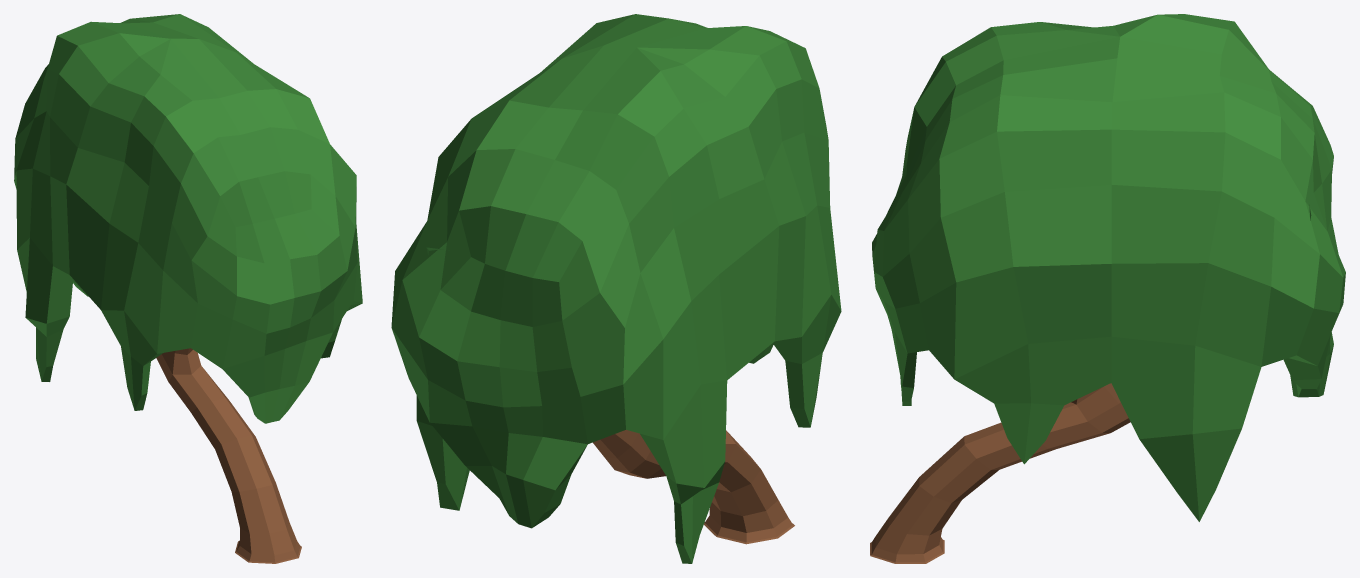
File: willow.glb
3 views of the same model, side by side, from view 1: azimuth 30°, elevation 25°; view 2: azimuth 150°, elevation 25°; view 3: azimuth 270°, elevation 25° (orthographic). The views are drawn at different scales.
Visible parts, largest first — view 1: Willow_3; view 2: Willow_3; view 3: Willow_3.
Part boxes in pixels (x1,y1,x2,y2): Willow_3: (14, 14, 362, 563); Willow_3: (391, 14, 841, 563); Willow_3: (870, 14, 1345, 563).
Size of the model in its own units: 2.63 by 4.7 by 3.96.
